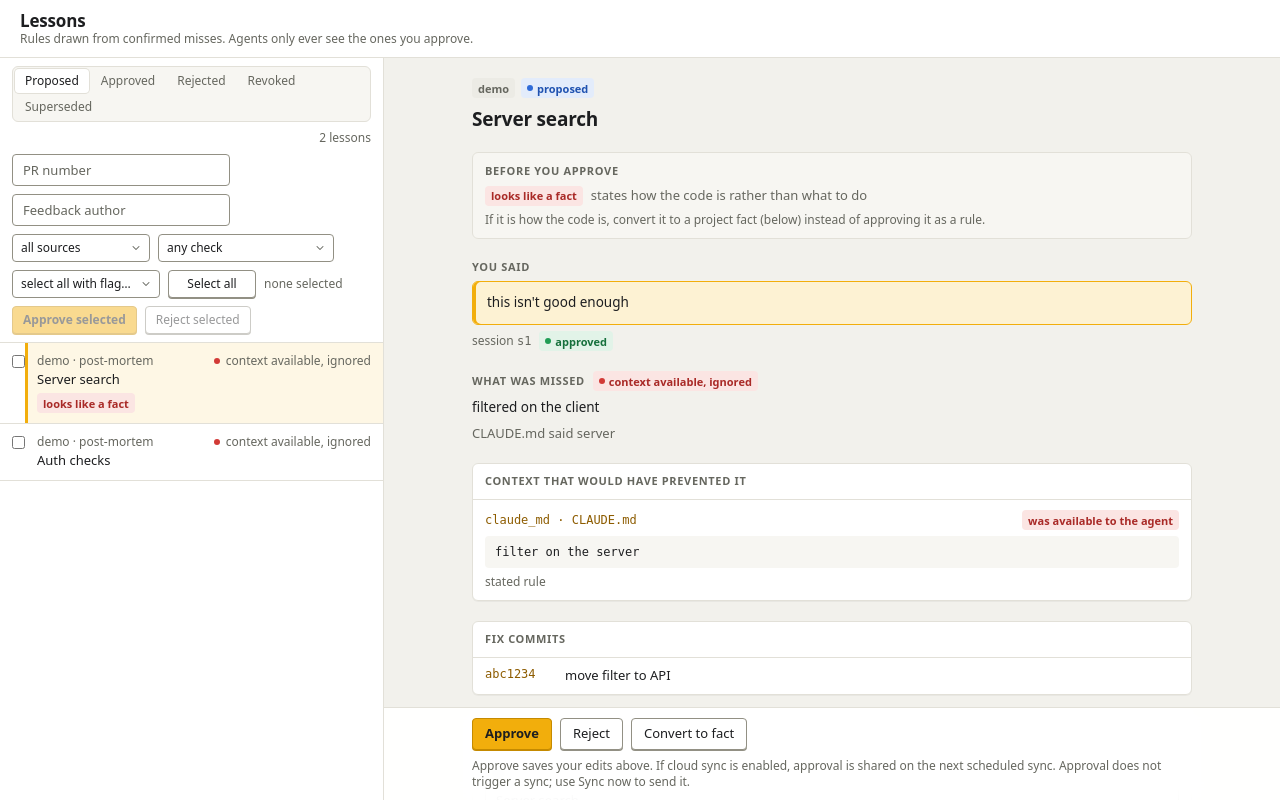
Scenario: a proposed lesson can be converted to a project fact: the dialog picks the kind and relevance, and the lesson leaves the list
Expected: the text "filtered on the client" is shown, 472,398 -> 600,416
Expected: the text "convert it to a project fact" is shown, 485,211 -> 985,228
Click the button "Convert to fact" at (689,734), box 631,718 -> 747,750
(page scrolled)
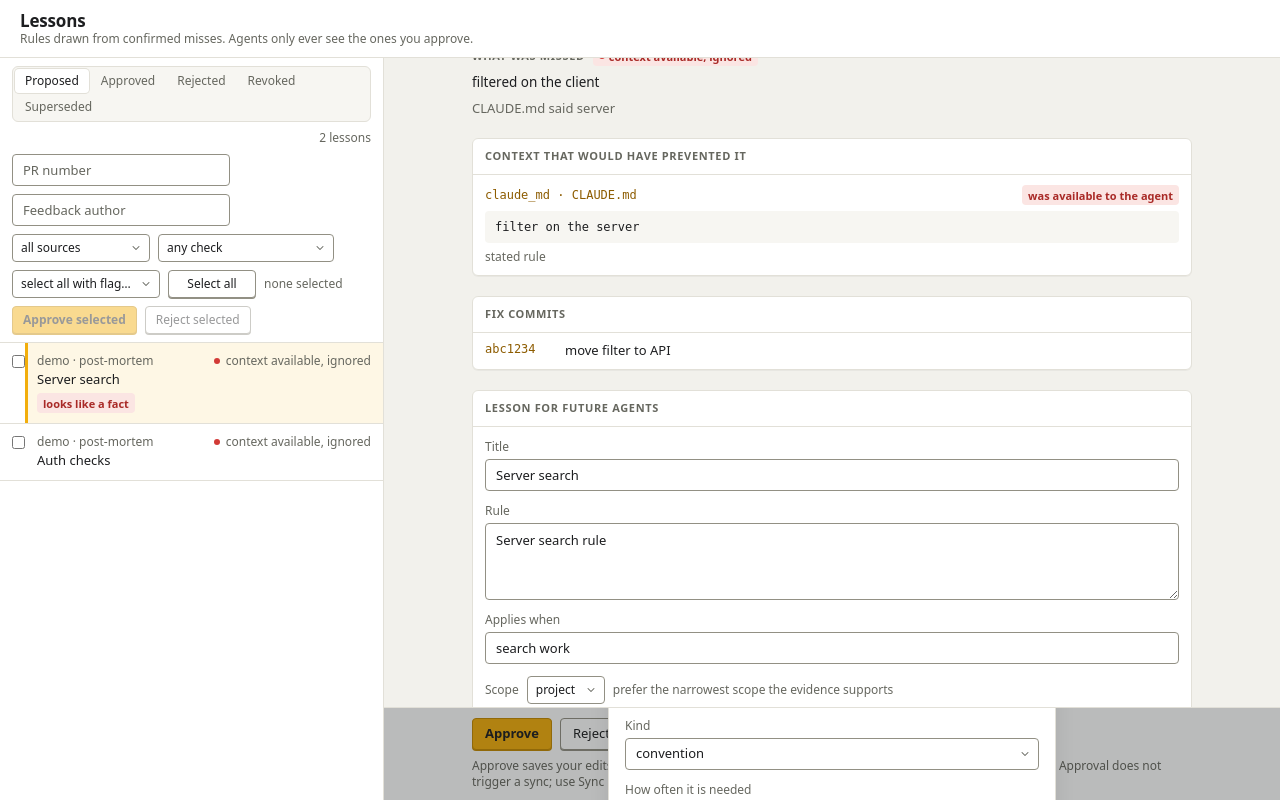
Now the dropdown named "fact kind" shows "convention"
Select "gotcha" in the dropdown named "fact kind" at (832,754), box 625,738 -> 1039,770
(page scrolled)
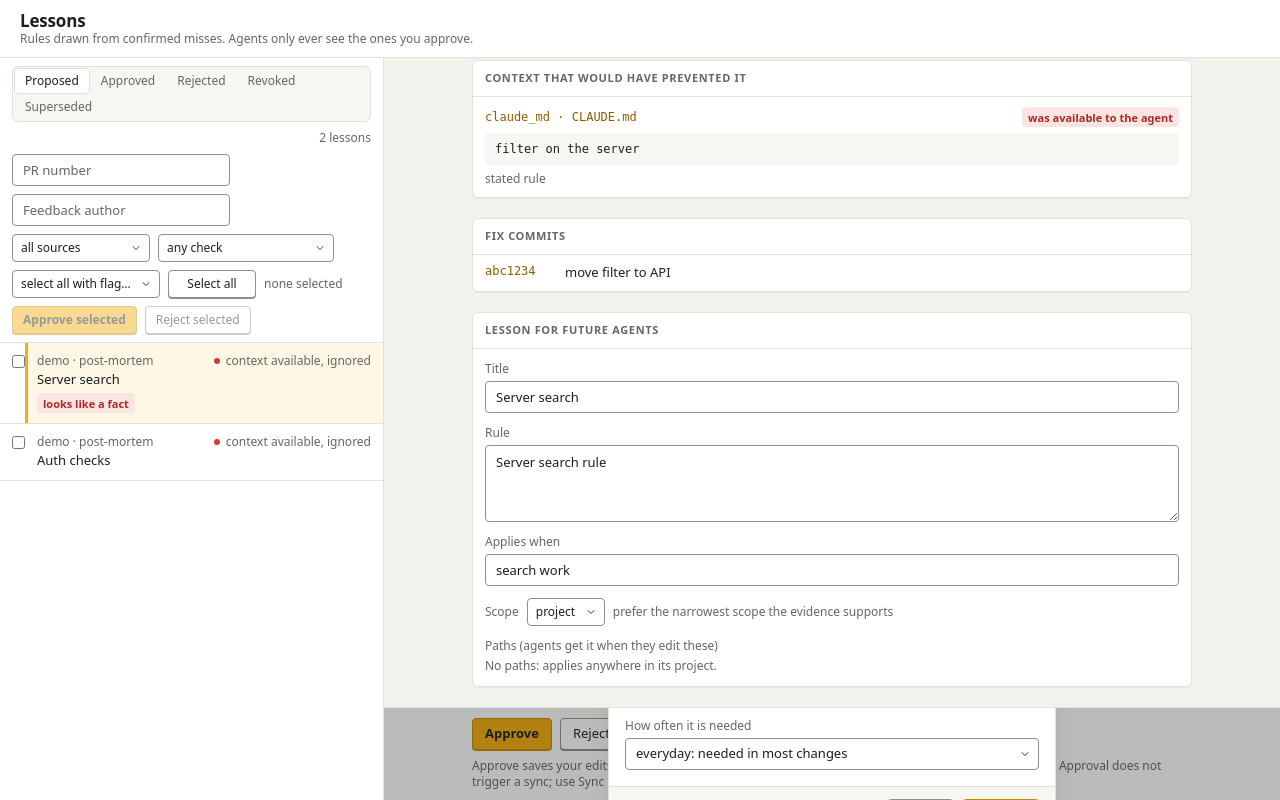
Select "sometimes: needed for some changes" in the dropdown named "fact relevance" at (832,754), box 625,738 -> 1039,770
(page scrolled)
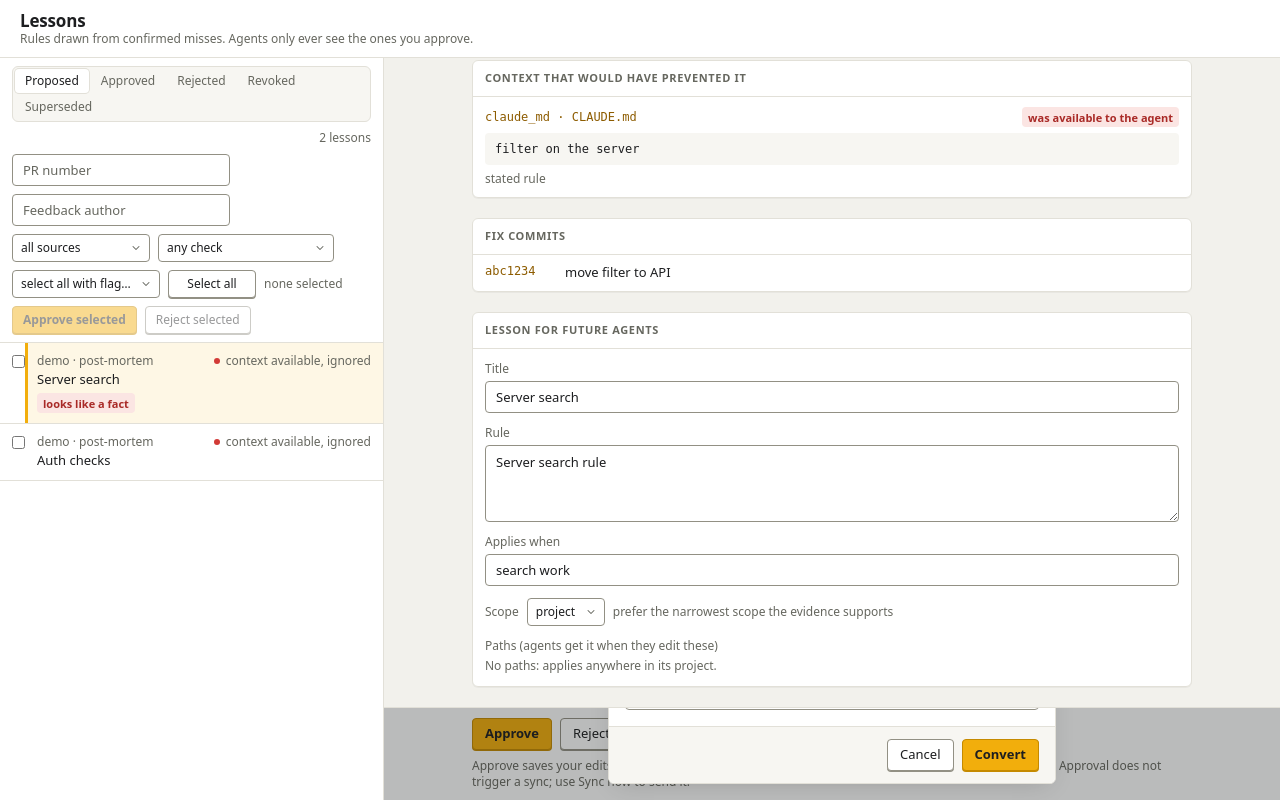
Click the button "Convert" at (1000,755), box 962,739 -> 1039,771
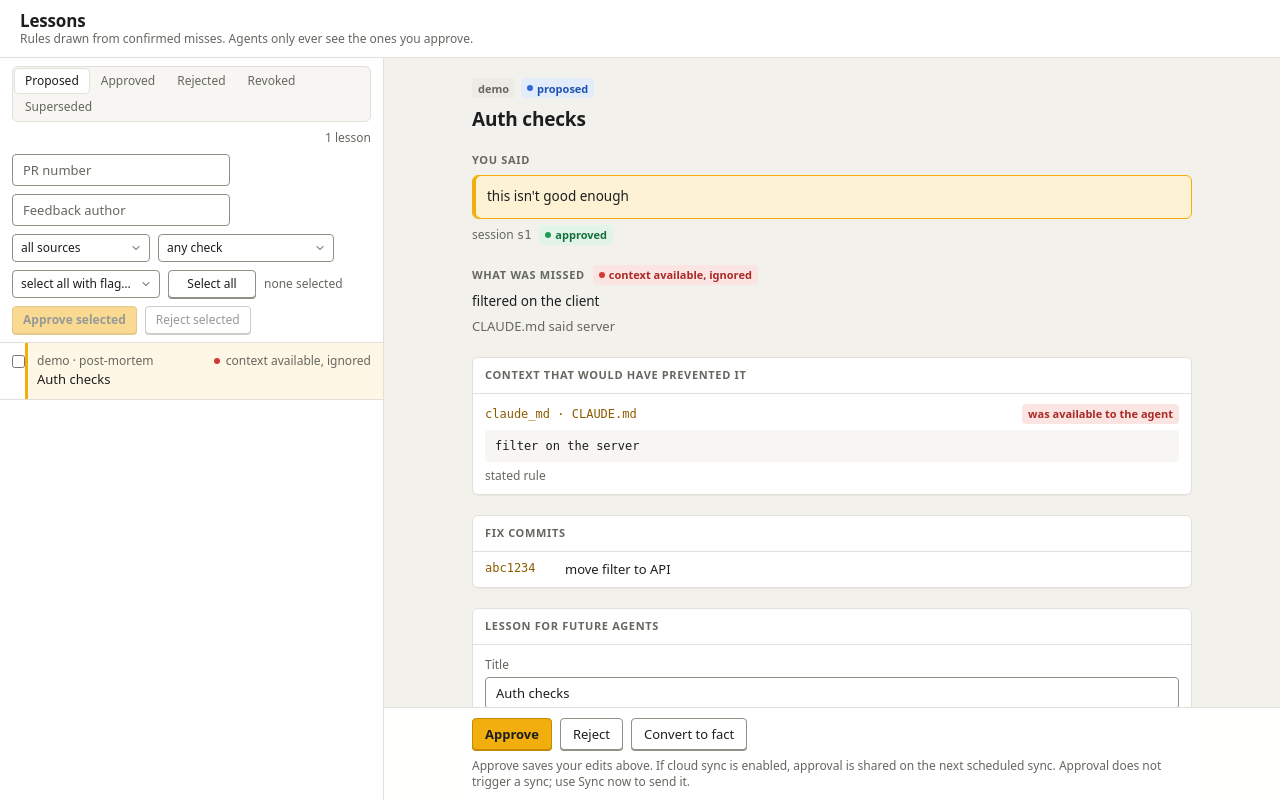
Now the heading "Auth checks" is shown, box 472,106 -> 586,132
Now the dialog is gone
